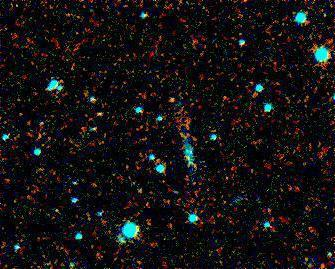star: (158, 86, 188, 116)
